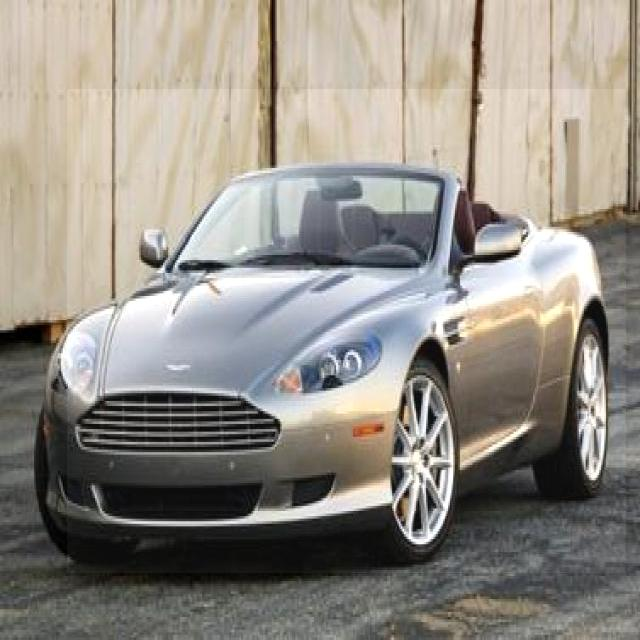Car: (67, 90, 626, 574)
